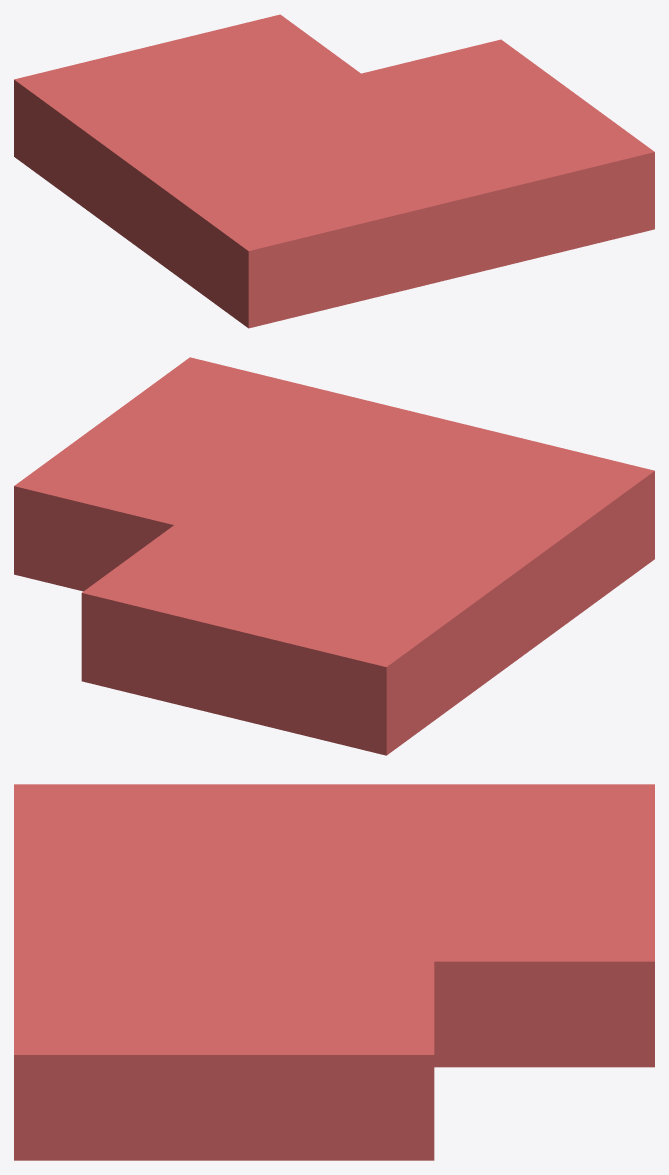
The model's file is heart.dae.
3 renders of one model, top to bottom at view 1: azimuth 30°, elevation 25°; view 2: azimuth 150°, elevation 25°; view 3: azimuth 270°, elevation 25°, orthographic. The views are drawn at different scales.
Parts seen in each view (by area): view 1: Cube.003; view 2: Cube.003; view 3: Cube.003.
Boxes of the visible parts, x1,y1,x2,y2 form: Cube.003: (14,14,654,328); Cube.003: (14,357,654,755); Cube.003: (14,784,654,1160).
Bounding box in the file's own units: 0.4743 × 0.4743 × 0.0862.
